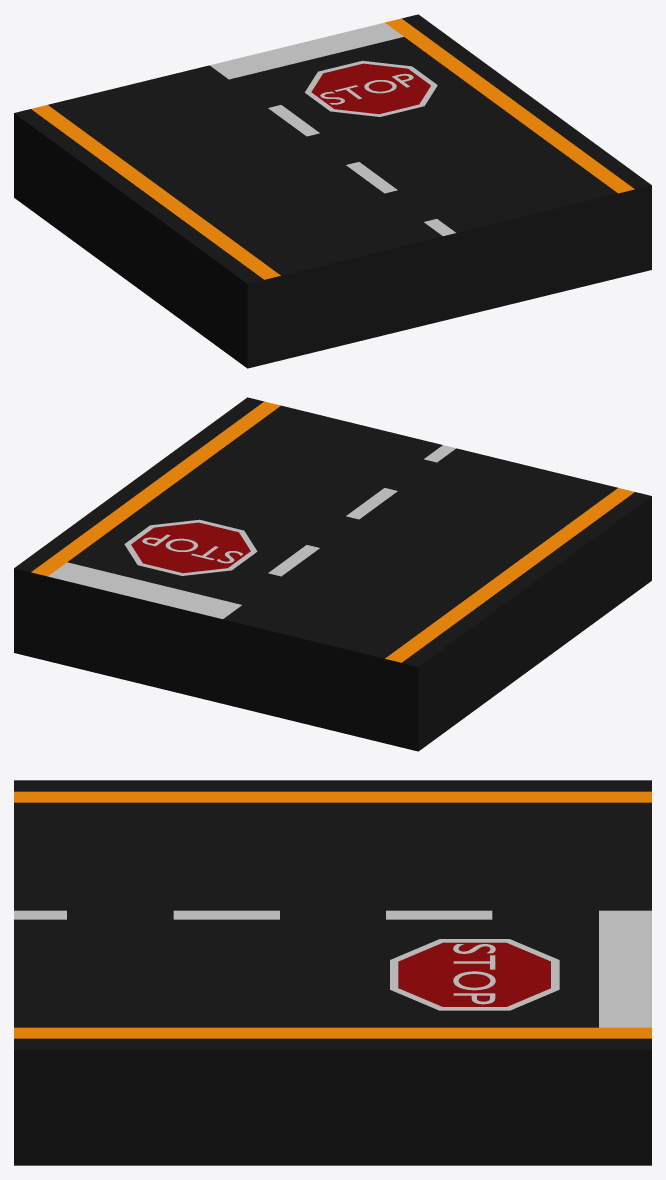
File: STOP_straight_road.obj
The picture shows the model from 3 angles, top to bottom: view 1: azimuth 30°, elevation 25°; view 2: azimuth 150°, elevation 25°; view 3: azimuth 270°, elevation 25°; orthographic projection. The views are drawn at different scales.
Visible parts, largest first — view 1: Cube_Cube.004, Plane_Plane.001, Text_STOP; view 2: Cube_Cube.004, Plane_Plane.001, Text_STOP; view 3: Cube_Cube.004, Plane_Plane.001, Text_STOP.
Boxes of the visible parts, bbox=[...] form: Cube_Cube.004: bbox=[14, 14, 651, 368]; Plane_Plane.001: bbox=[305, 60, 437, 116]; Text_STOP: bbox=[320, 73, 413, 104]; Cube_Cube.004: bbox=[14, 397, 651, 751]; Plane_Plane.001: bbox=[124, 519, 257, 575]; Text_STOP: bbox=[142, 534, 242, 563]; Cube_Cube.004: bbox=[14, 780, 651, 1165]; Plane_Plane.001: bbox=[390, 939, 559, 1010]; Text_STOP: bbox=[453, 944, 495, 1004].
Size of the model in its own units: 1 by 0.201 by 1.
